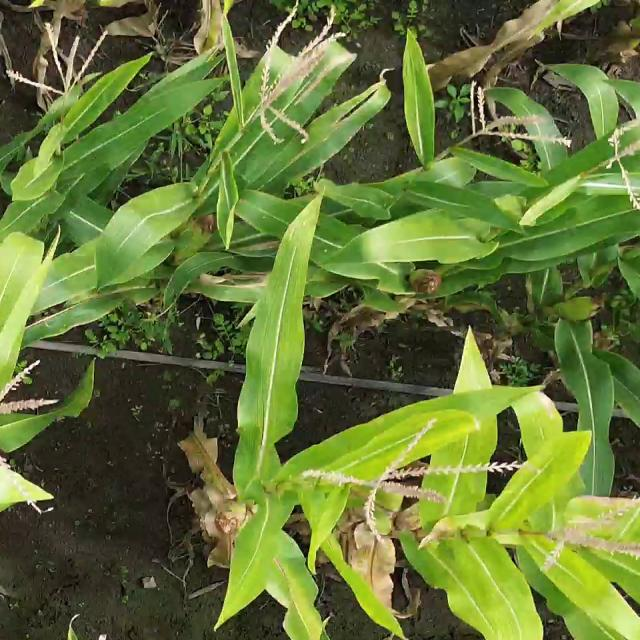northern-leaf-blight: (200, 270, 282, 297), (529, 390, 571, 433), (240, 233, 288, 259), (268, 555, 298, 589)
